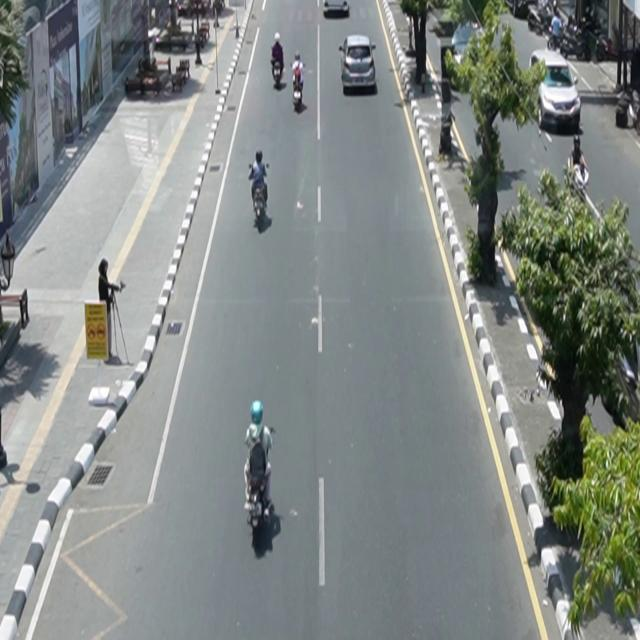car: (340, 35, 378, 93)
